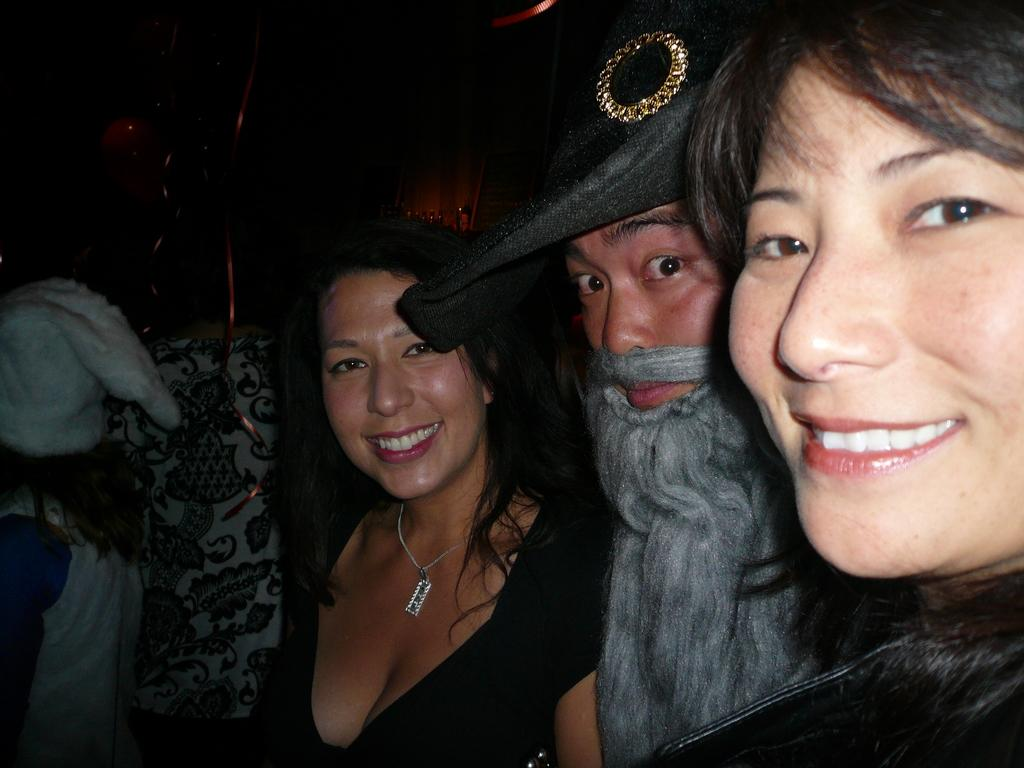Hat: (391, 0, 757, 360)
